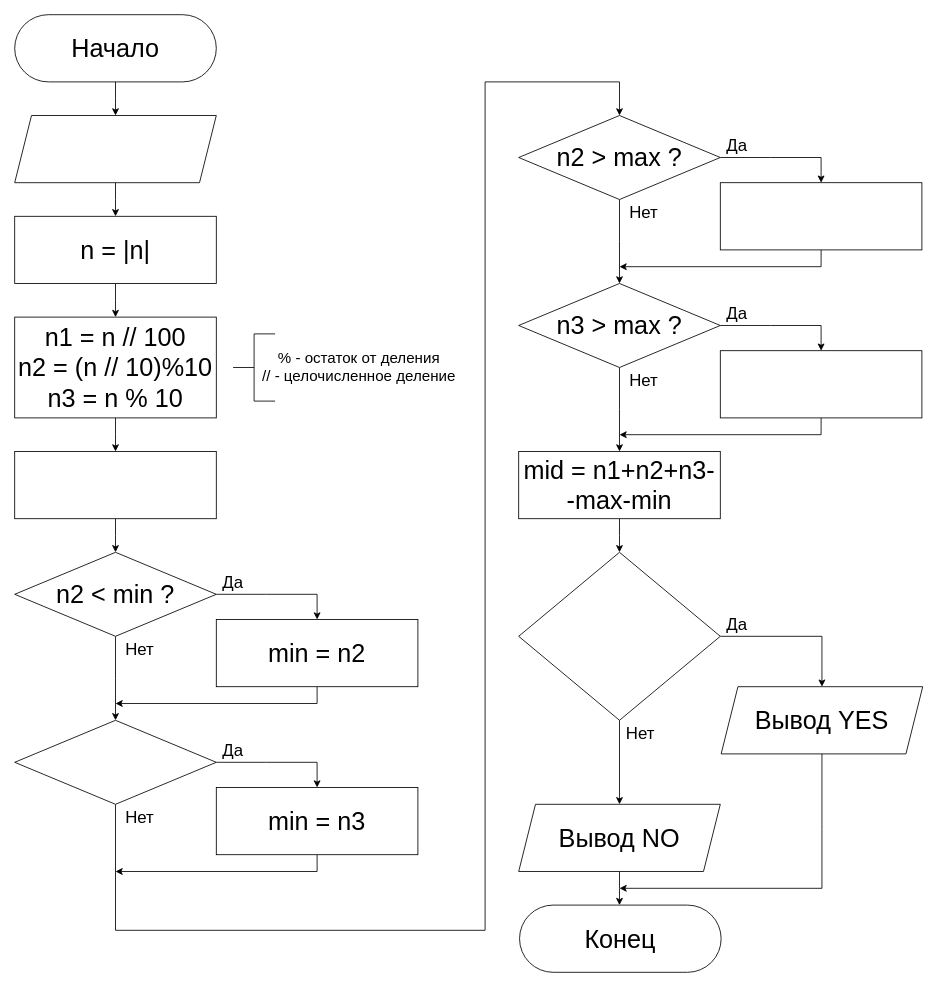
This 937x987 diagram has some shape labels left out. Here are the shapes that lost their labels. From the top down, the centre of each, then its label:
At point 115,149: "Ввод n".
At point 820,216: "max = n2".
At point 820,384: "max = n3".
At point 115,485: "min = n1 max = n1".
At point 619,635: "(max+min)//2 < mid ?".
At point 115,761: "n3 < min ?".
